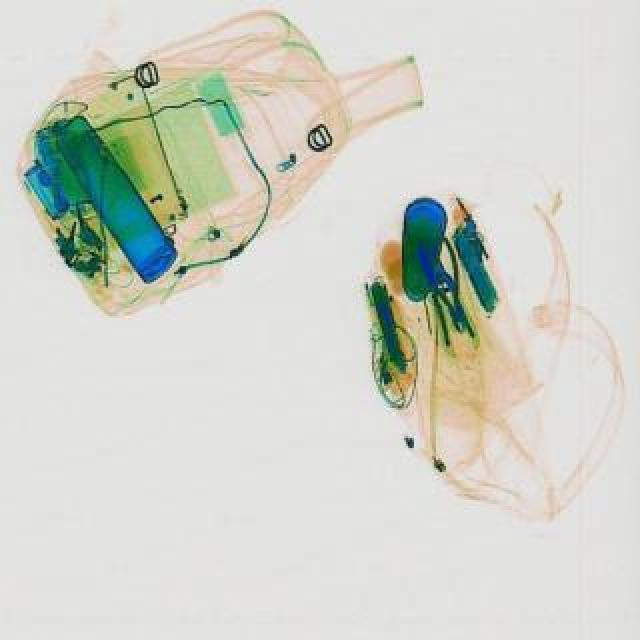wrench: (416, 238, 484, 338), (424, 268, 480, 350)
